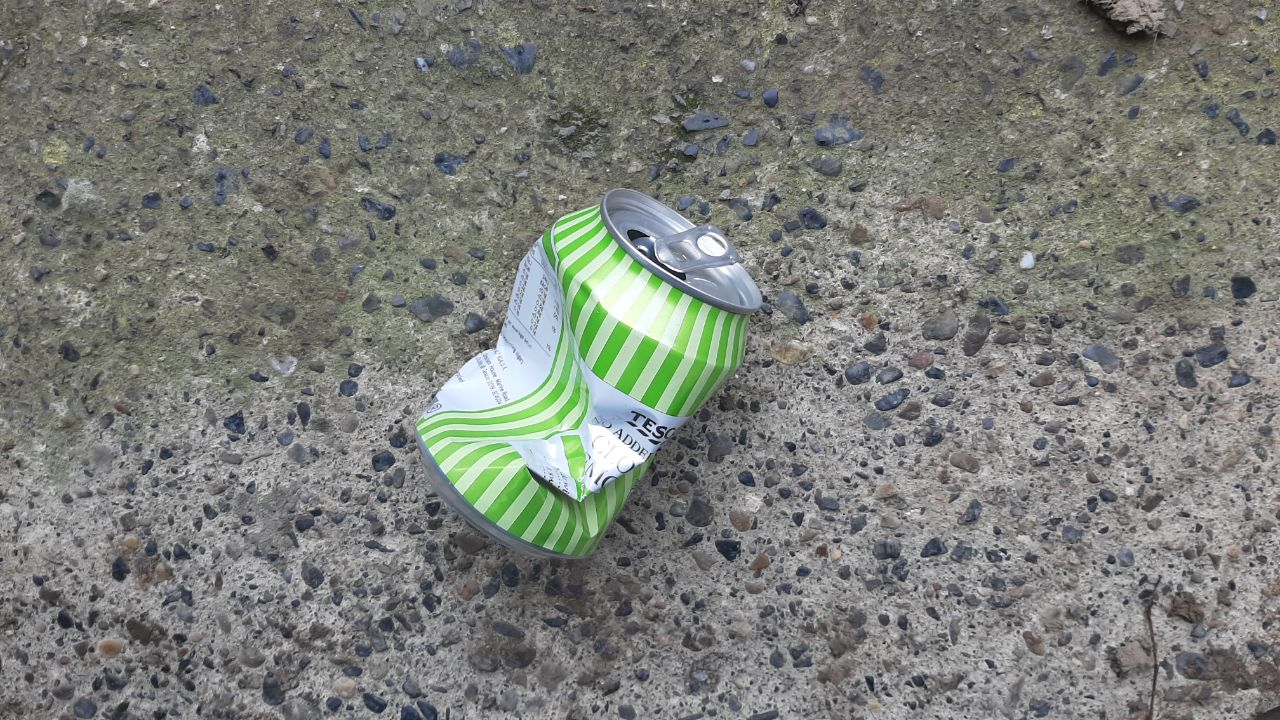Can: (414, 183, 764, 563)
